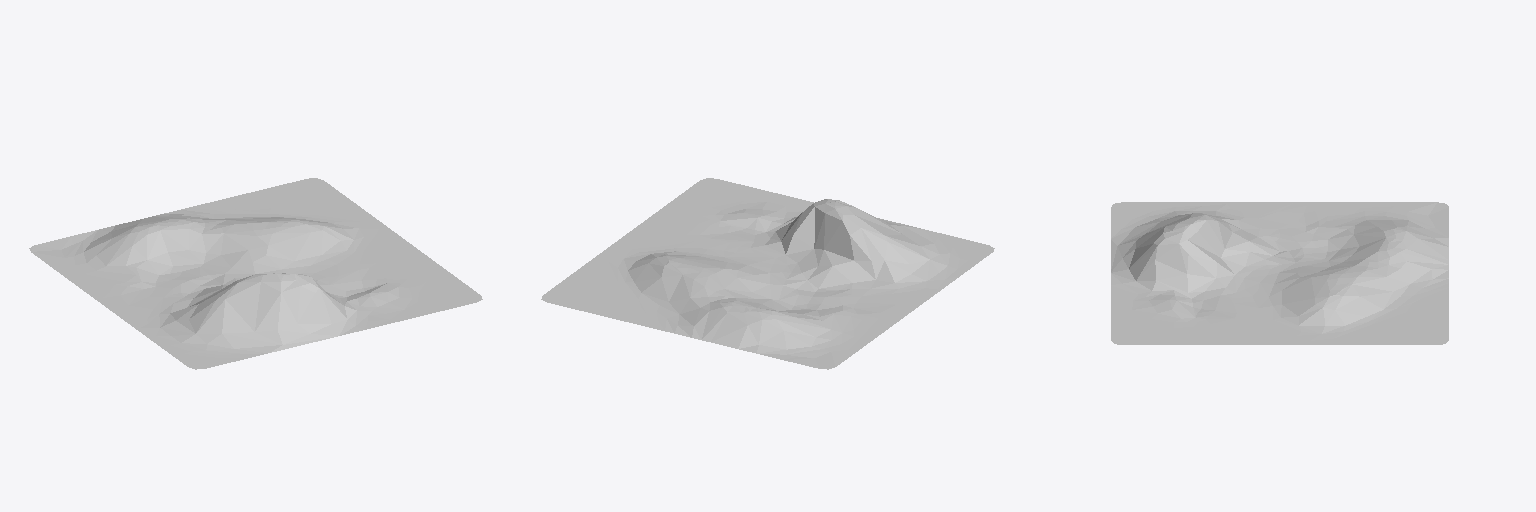
Rendered from Ground09.obj.
3 renders of one model, left to right at view 1: azimuth 30°, elevation 25°; view 2: azimuth 150°, elevation 25°; view 3: azimuth 270°, elevation 25°, orthographic.
Visible parts, largest first — view 1: Plane; view 2: Plane; view 3: Plane.
Part boxes in pixels (x1,y1,x2,y2): Plane: (29, 178, 482, 369); Plane: (541, 178, 994, 369); Plane: (1111, 202, 1448, 344).
Bounding box in the file's own units: 400 × 53.72 × 400.